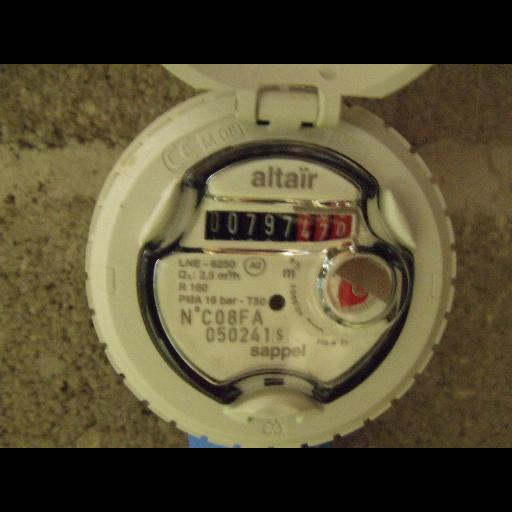0: (204, 210, 224, 240), (223, 211, 243, 241), (332, 214, 352, 240)
4: (297, 213, 316, 242)
7: (243, 212, 262, 241), (279, 213, 298, 242), (315, 214, 333, 243)
9: (261, 213, 280, 242)
border_water_meter_number: (197, 200, 361, 256)
